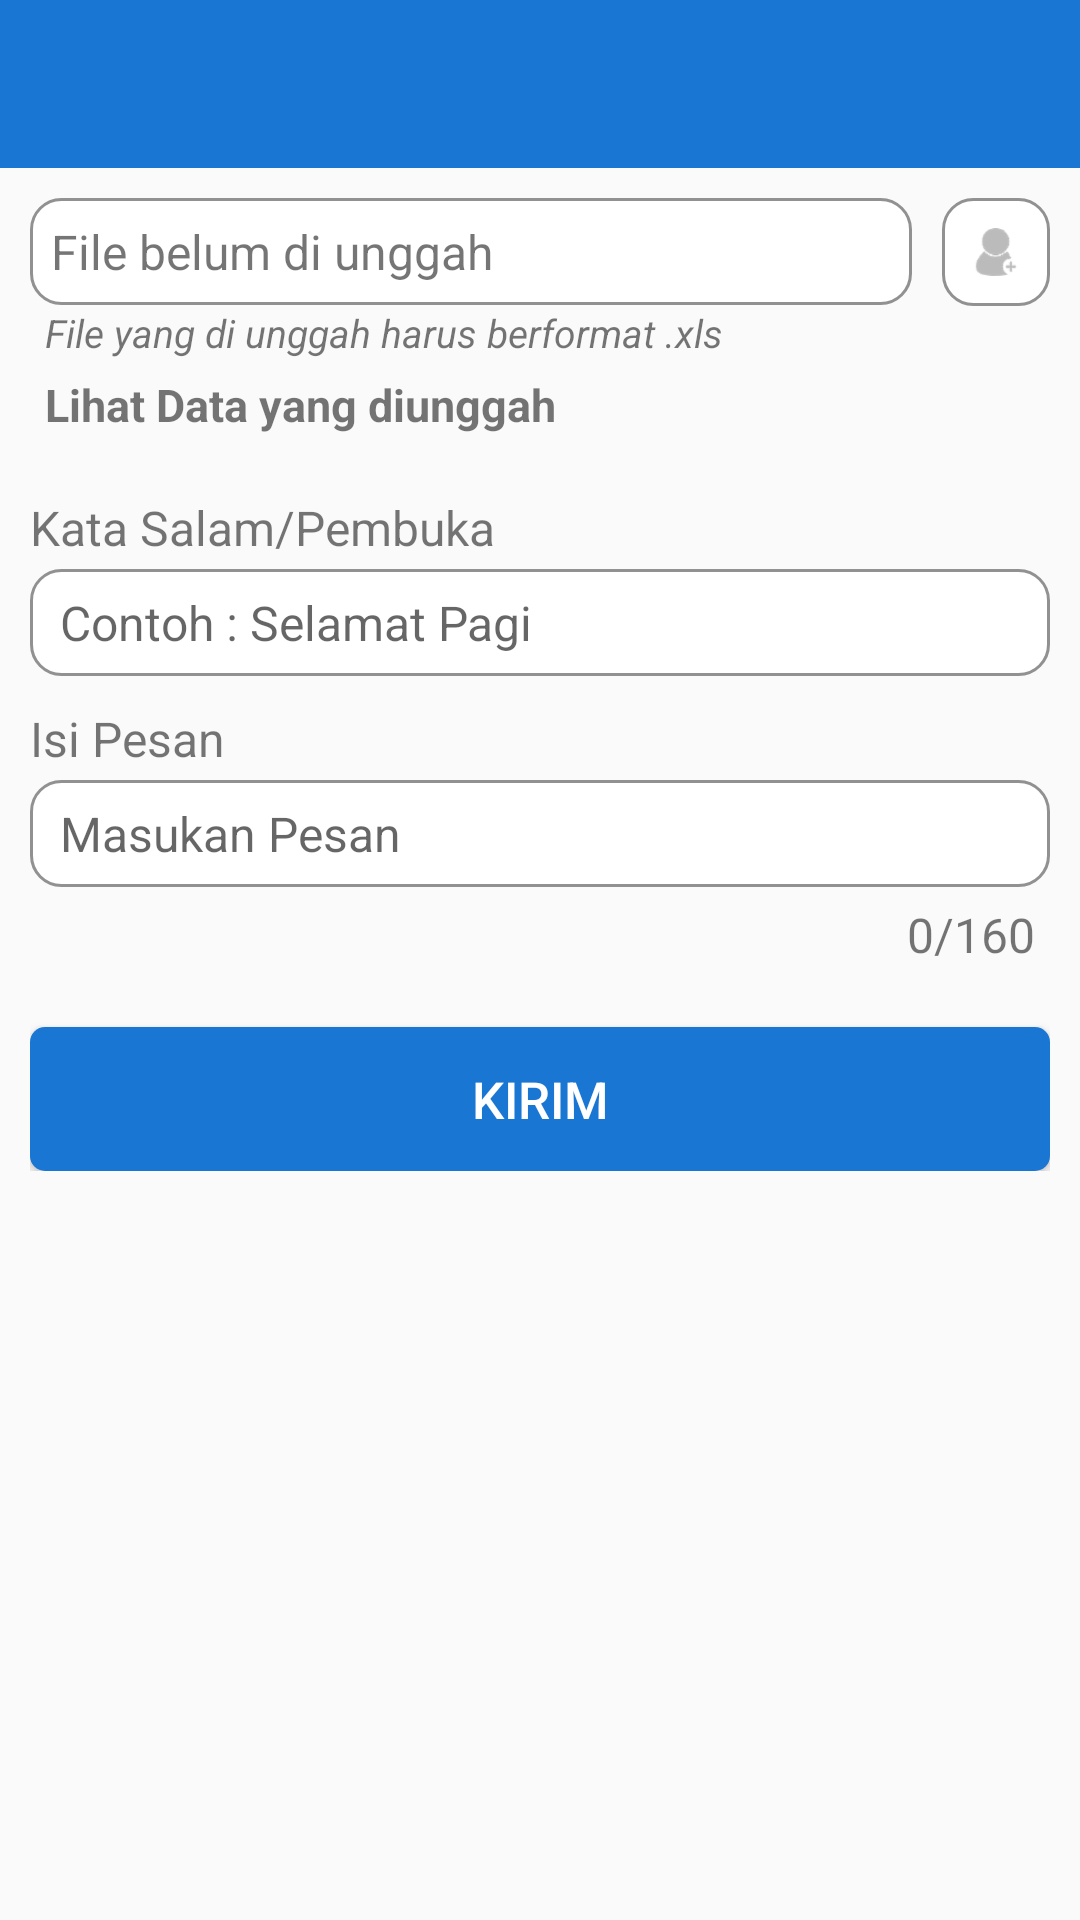

Icons on this 1080×1920 Android screen, each with its box as (x1, y1, x2, y2):
add contact: (942, 198, 1050, 306)
